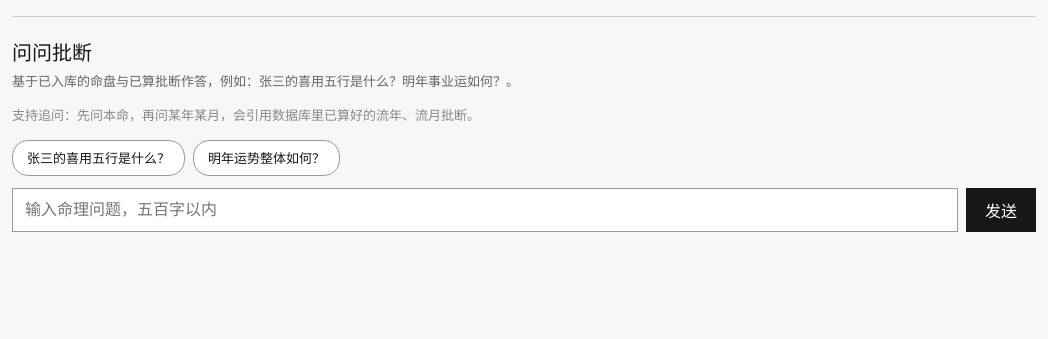
排盘页「问问 AI」 › 空会话且有已存命主 → 示例提问一键发送
Click the button "张三的喜用五行是什么？".
click(98, 158)  # box [12, 140, 185, 176]
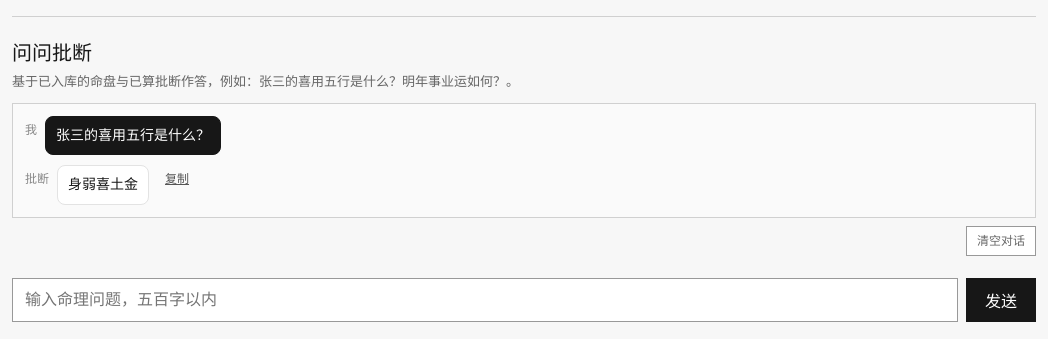
Check: the text "身弱喜土金" is shown, box [57, 166, 149, 205]
